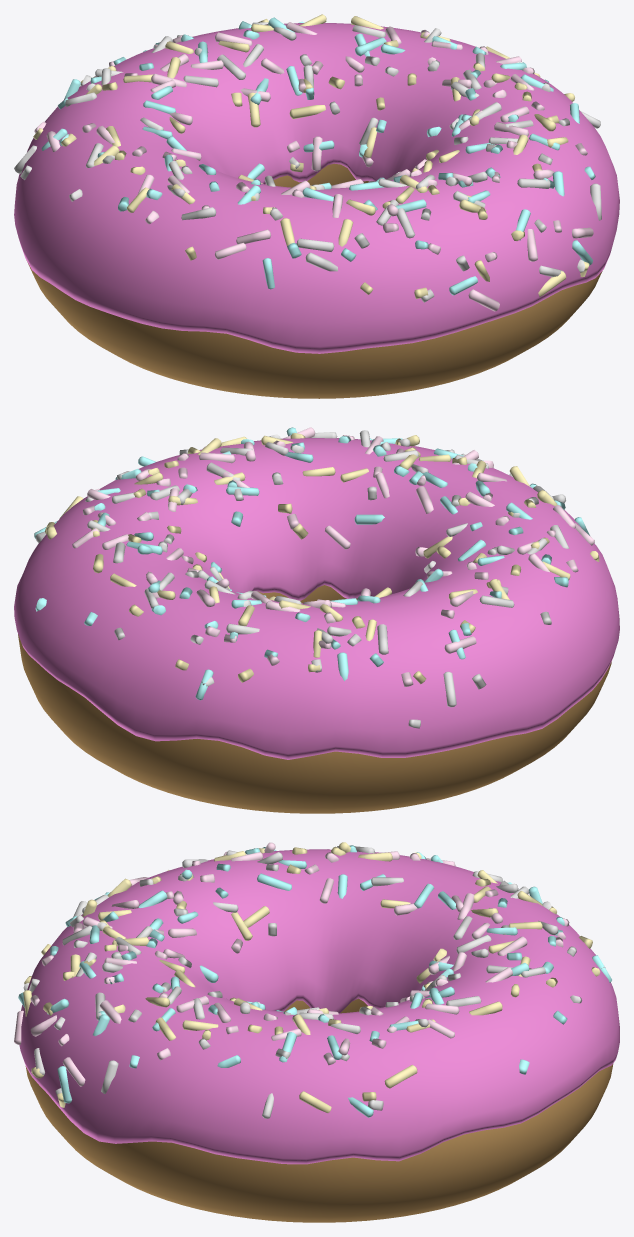
File: donutRose.fbx
The picture shows the model from 3 angles, top to bottom: view 1: azimuth 30°, elevation 25°; view 2: azimuth 150°, elevation 25°; view 3: azimuth 270°, elevation 25°; orthographic projection.
Parts seen in each view (by area): view 1: Torus.002, Torus.003; view 2: Torus.002, Torus.003; view 3: Torus.002, Torus.003.
Boxes of the visible parts, x1=… form: Torus.002: x1=14, y1=23, x2=619, y2=353; Torus.003: x1=26, y1=163, x2=602, y2=398; Torus.002: x1=14, y1=437, x2=619, y2=759; Torus.003: x1=18, y1=585, x2=611, y2=813; Torus.002: x1=19, y1=849, x2=619, y2=1164; Torus.003: x1=25, y1=998, x2=613, y2=1222.
Size of the model in its own units: 307 by 113 by 310.
